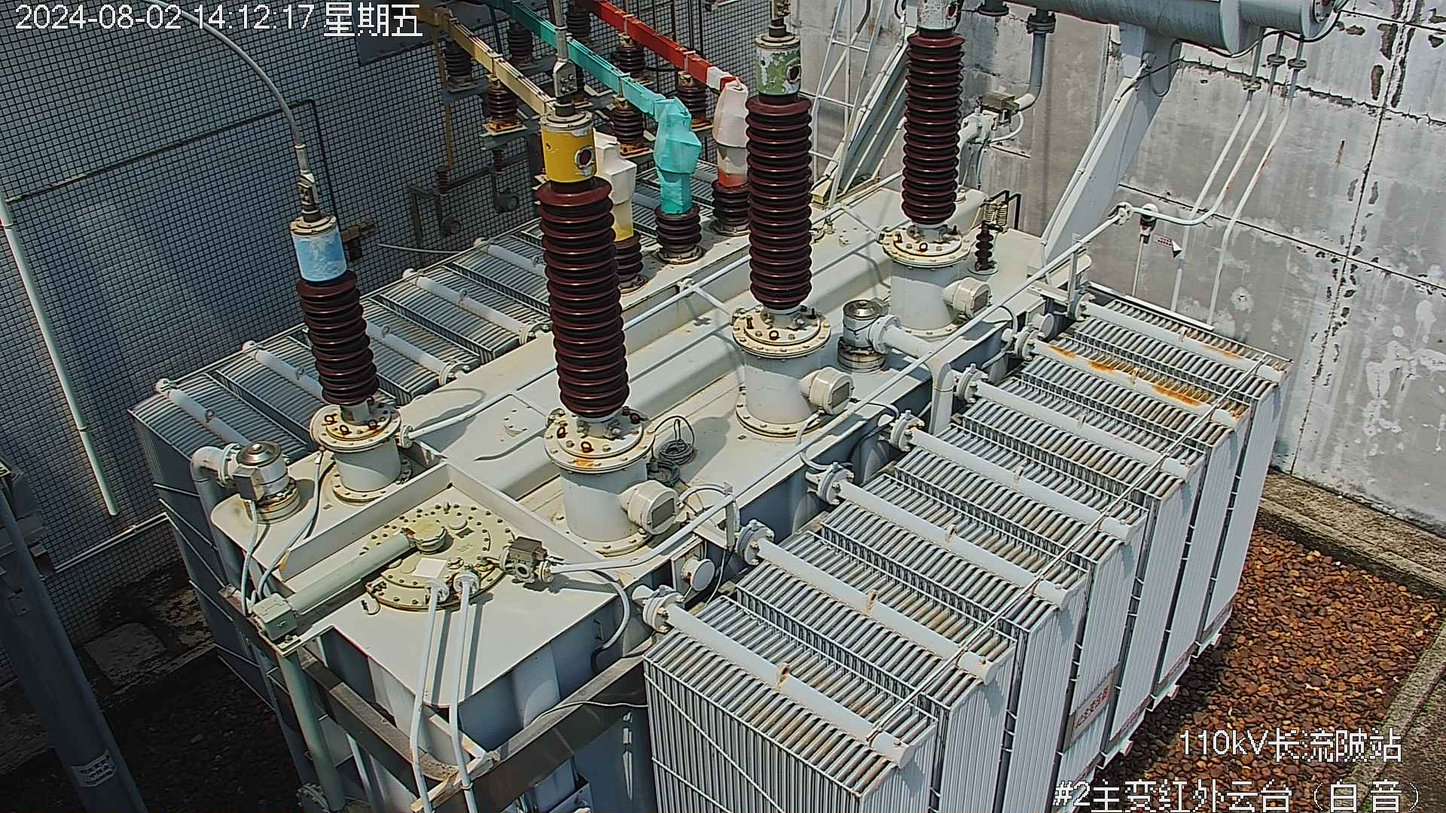HTX: (1047, 343, 1203, 407), (212, 489, 285, 528), (555, 425, 597, 470), (322, 413, 384, 439), (886, 231, 930, 265), (1200, 343, 1245, 360), (617, 139, 653, 157), (485, 119, 523, 133), (618, 403, 642, 425), (687, 110, 714, 129), (1225, 402, 1247, 421), (679, 570, 694, 588), (277, 555, 286, 573)
